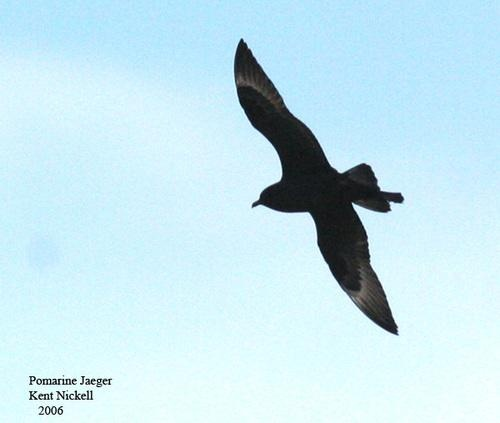bird: (228, 36, 400, 336)
